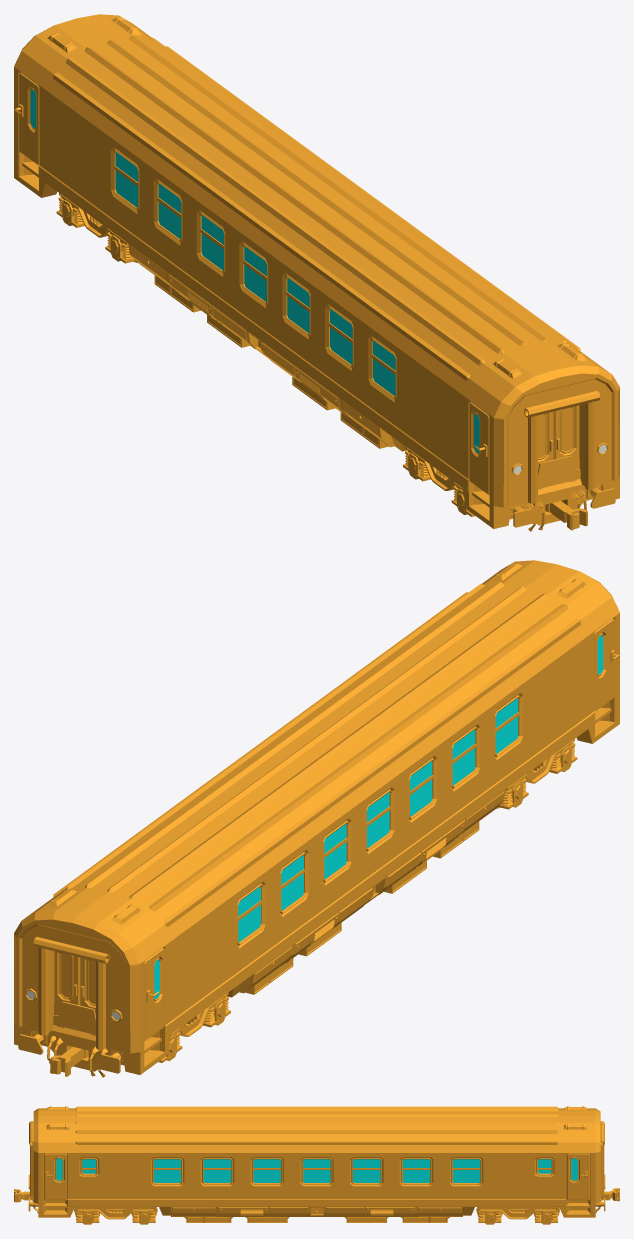
File: SM_Train_Wagon_Travel_A.fbx
The picture shows the model from 3 angles, top to bottom: view 1: azimuth 30°, elevation 25°; view 2: azimuth 150°, elevation 25°; view 3: azimuth 270°, elevation 25°; orthographic projection. The views are drawn at different scales.
Visible parts, largest first — view 1: SM_Train_Wagon_Travel_A_Base, SM_Train_Wagon_Travel_A_Base_Chassis_B, SM_Train_Wagon_Travel_A_Base_Chassis_F, SM_Train_Wagon_Travel_A_Base_Joint_F; view 2: SM_Train_Wagon_Travel_A_Base, SM_Train_Wagon_Travel_A_Base_Chassis_F, SM_Train_Wagon_Travel_A_Base_Chassis_B; view 3: SM_Train_Wagon_Travel_A_Base, SM_Train_Wagon_Travel_A_Base_Chassis_F, SM_Train_Wagon_Travel_A_Base_Chassis_B, SM_Train_Wagon_Travel_A_Base_Joint_F, SM_Train_Wagon_Travel_A_Base_Joint_B.
Part boxes in pixels (box(x1,y1,x2,y2)): SM_Train_Wagon_Travel_A_Base: box(14, 14, 619, 531); SM_Train_Wagon_Travel_A_Base_Chassis_B: box(56, 193, 135, 263); SM_Train_Wagon_Travel_A_Base_Chassis_F: box(403, 446, 475, 516); SM_Train_Wagon_Travel_A_Base_Joint_F: box(545, 501, 587, 530); SM_Train_Wagon_Travel_A_Base: box(14, 560, 619, 1077); SM_Train_Wagon_Travel_A_Base_Chassis_F: box(498, 739, 577, 809); SM_Train_Wagon_Travel_A_Base_Chassis_B: box(158, 992, 230, 1062); SM_Train_Wagon_Travel_A_Base: box(28, 1106, 605, 1222); SM_Train_Wagon_Travel_A_Base_Chassis_F: box(75, 1207, 155, 1224); SM_Train_Wagon_Travel_A_Base_Chassis_B: box(478, 1207, 558, 1224); SM_Train_Wagon_Travel_A_Base_Joint_F: box(14, 1189, 33, 1202); SM_Train_Wagon_Travel_A_Base_Joint_B: box(600, 1188, 619, 1201).
Size of the model in its own units: 3.32 by 3.91 by 21.47.
